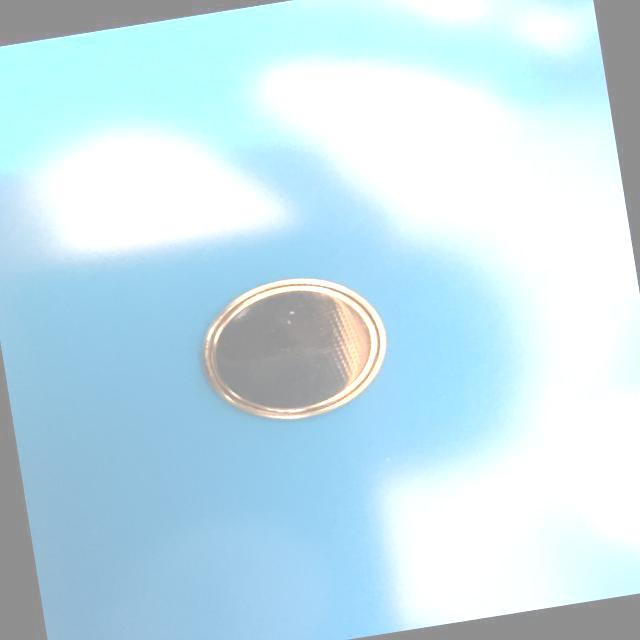COIN: (192, 266, 396, 432)
